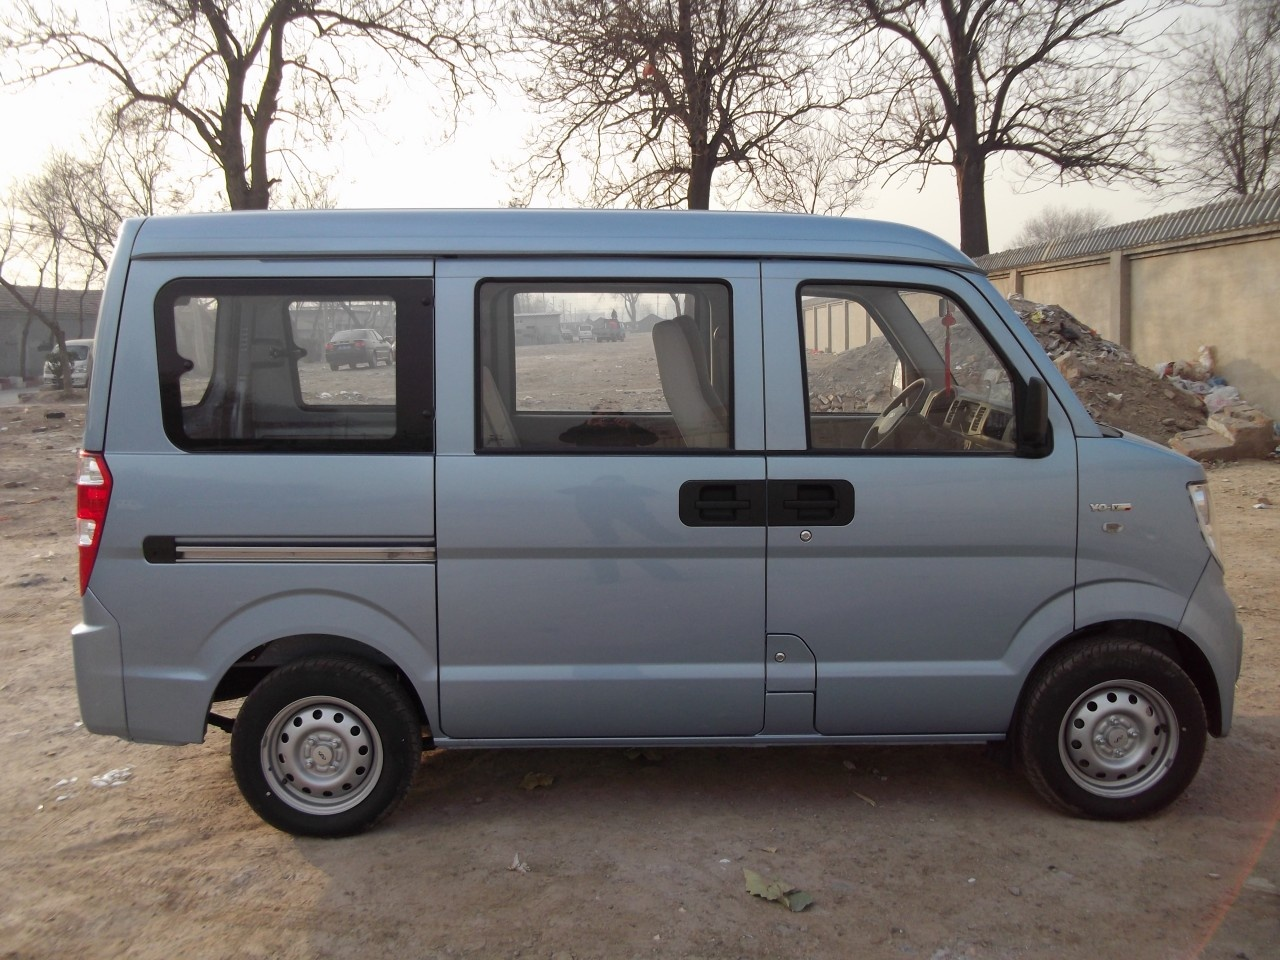minibus: (62, 177, 1238, 842)
